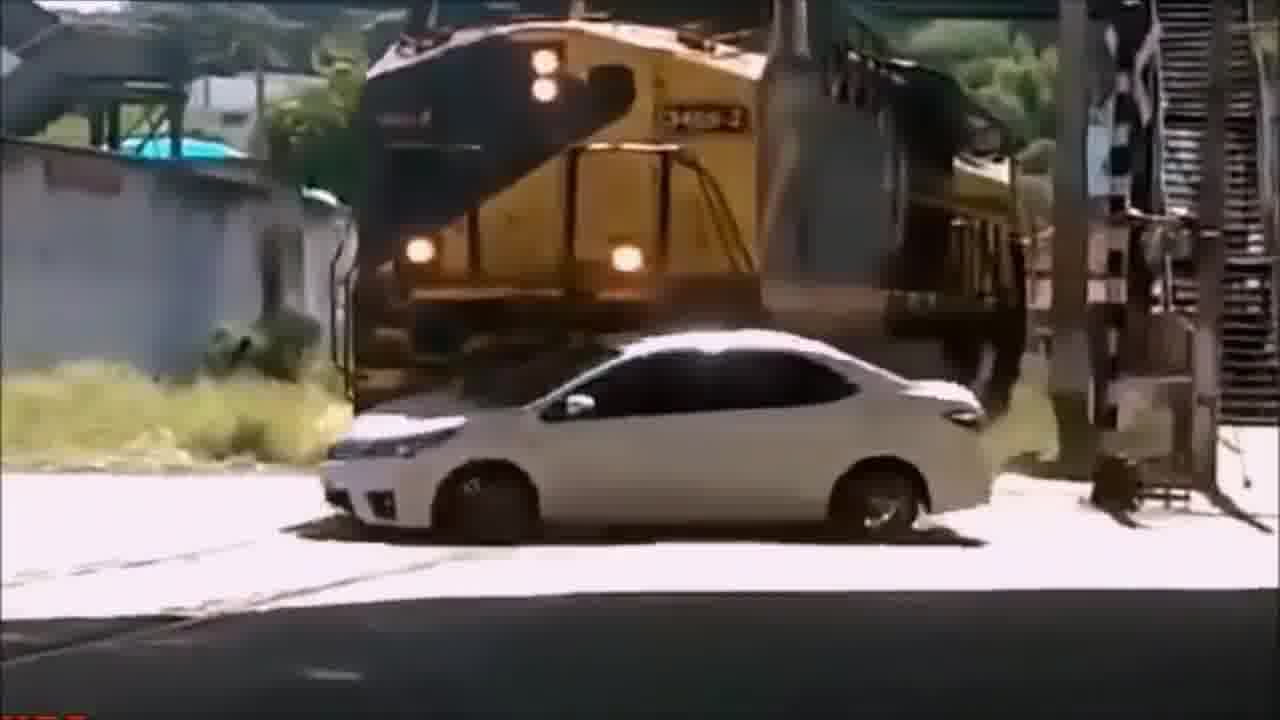crossing railway track: (300, 331, 1015, 560)
